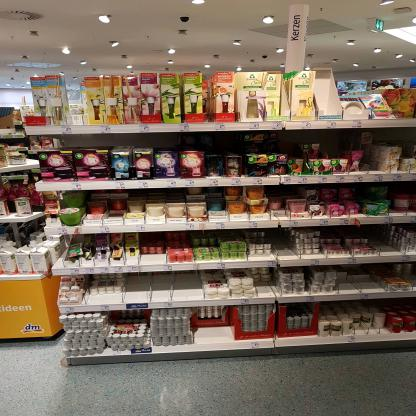Void: (123, 275, 196, 298), (66, 138, 237, 146), (341, 268, 384, 288), (323, 227, 388, 237), (269, 132, 300, 152), (198, 328, 232, 342), (381, 131, 415, 143), (308, 130, 348, 139), (66, 75, 80, 99), (329, 144, 342, 155)
